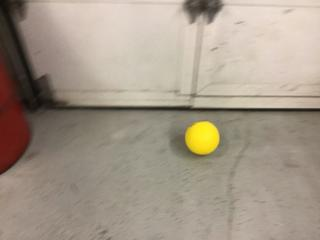power_cell: (180, 120, 229, 159)
